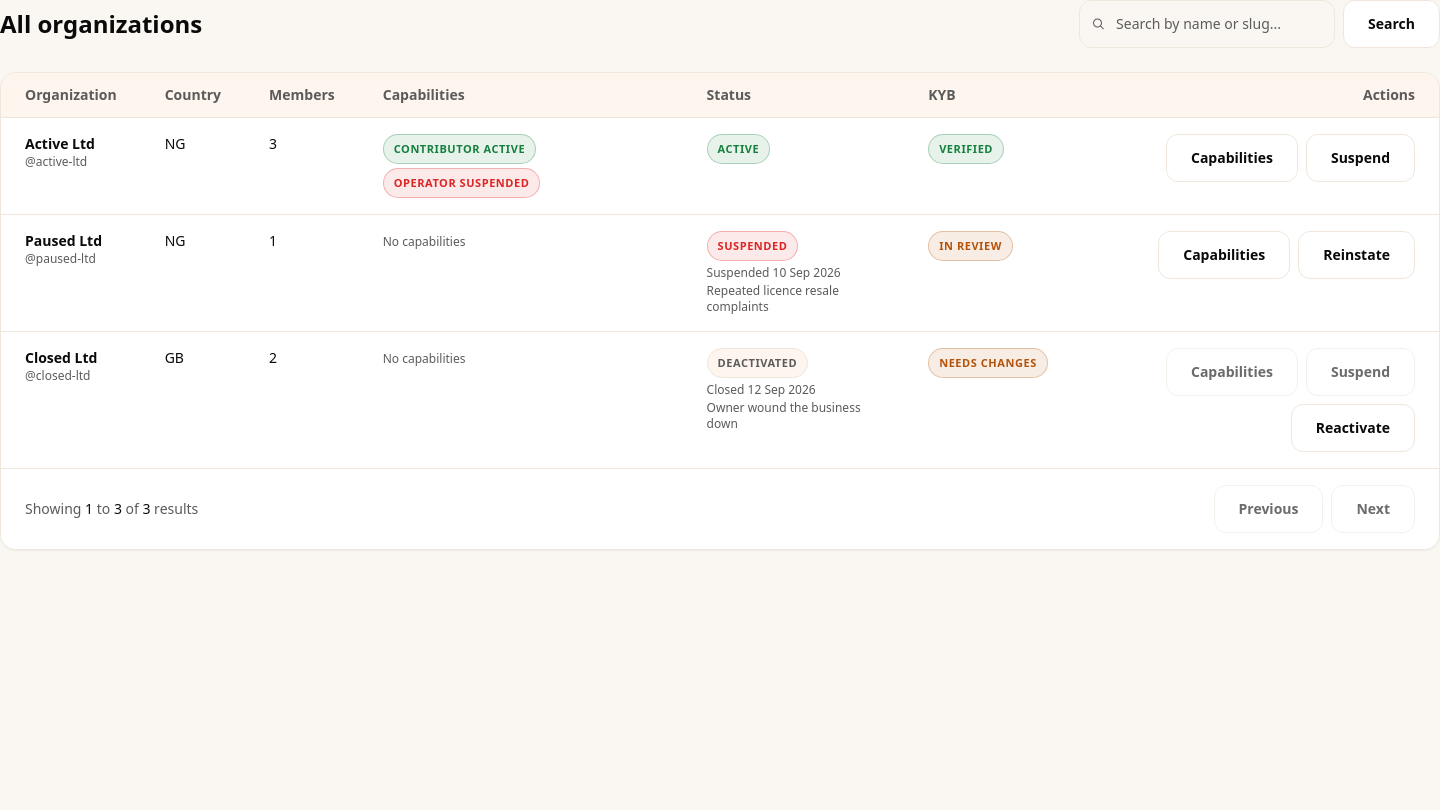
Test case: AdminOrganizationsList › opens the capabilities dialog for a row and updates the row after a change
The image size is (1440, 810).
Click the button "Capabilities" in the row of "Active Ltd".
click(1232, 158)  # box x1=1166 y1=134 x2=1298 y2=182
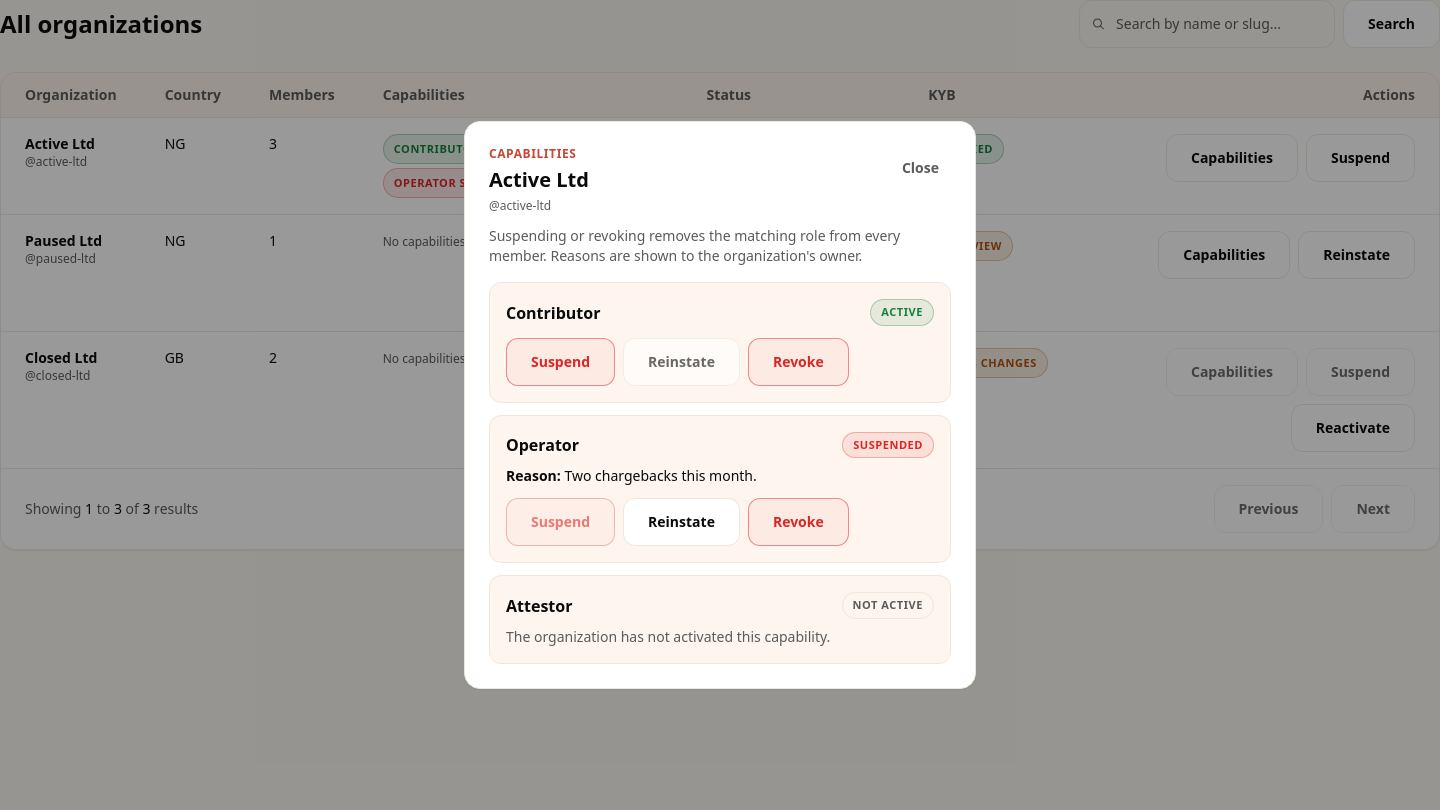
Result: the text "Two chargebacks this month." is shown at x1=564 y1=466 x2=757 y2=485
Click the 1st button "Suspend".
click(561, 362)  # box x1=506 y1=338 x2=615 y2=386
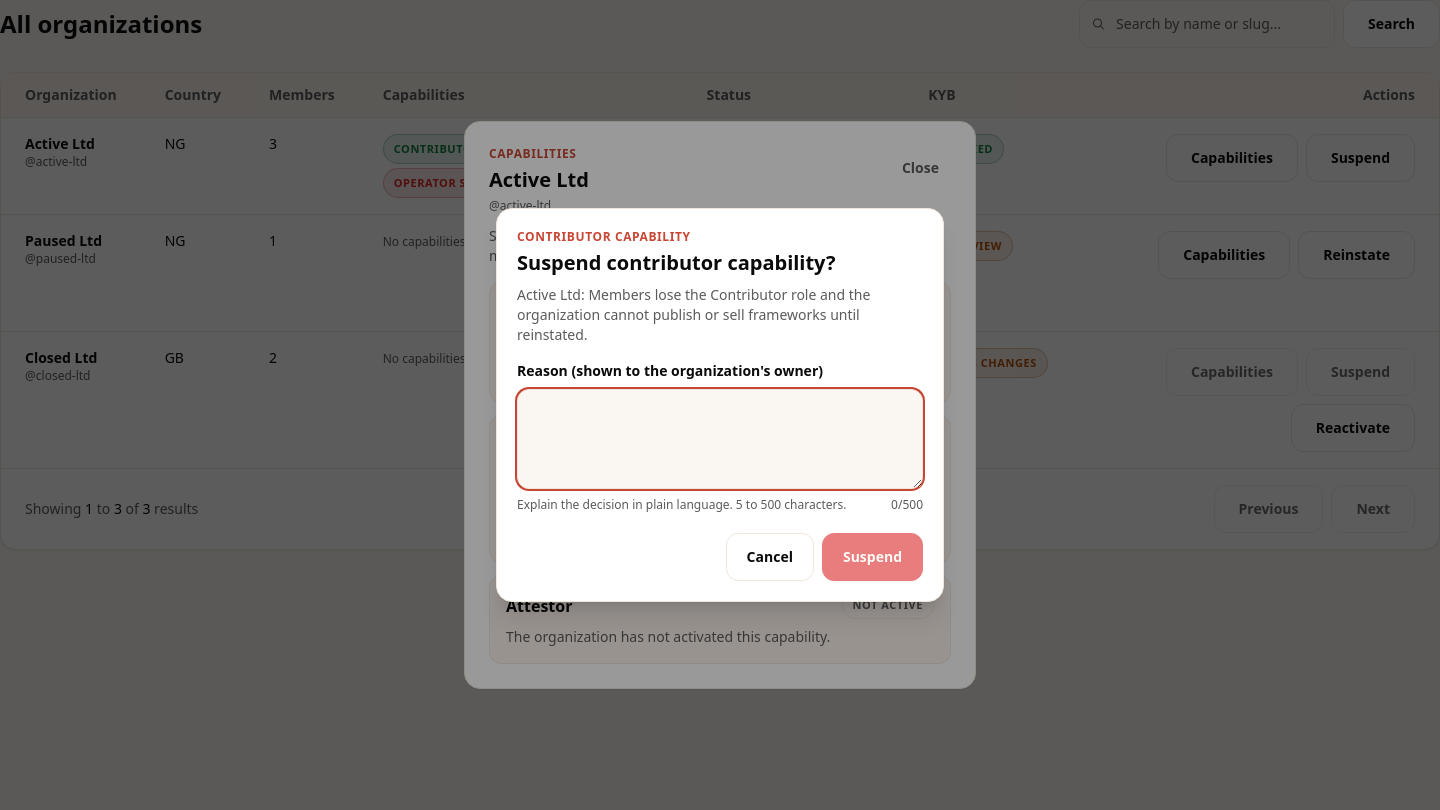
Type "Framework artifacts failed the malware scan twice." into the text box labelled "Reason (shown to the organization's owner)".
click(720, 439); type("Framework artifacts failed the malware scan twice.")  # box x1=517 y1=389 x2=923 y2=489
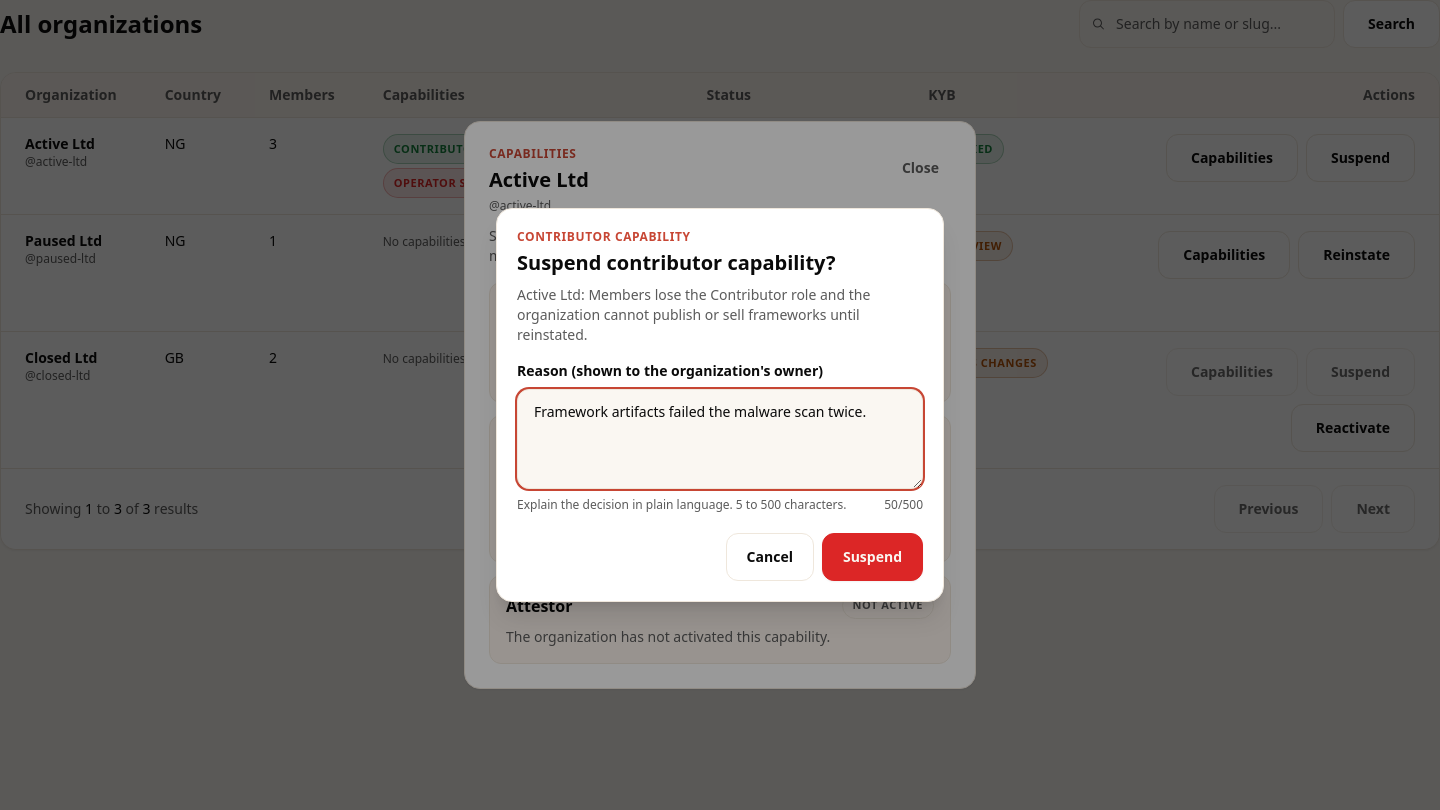
Click the button "Suspend".
click(872, 557)  # box x1=822 y1=533 x2=923 y2=581
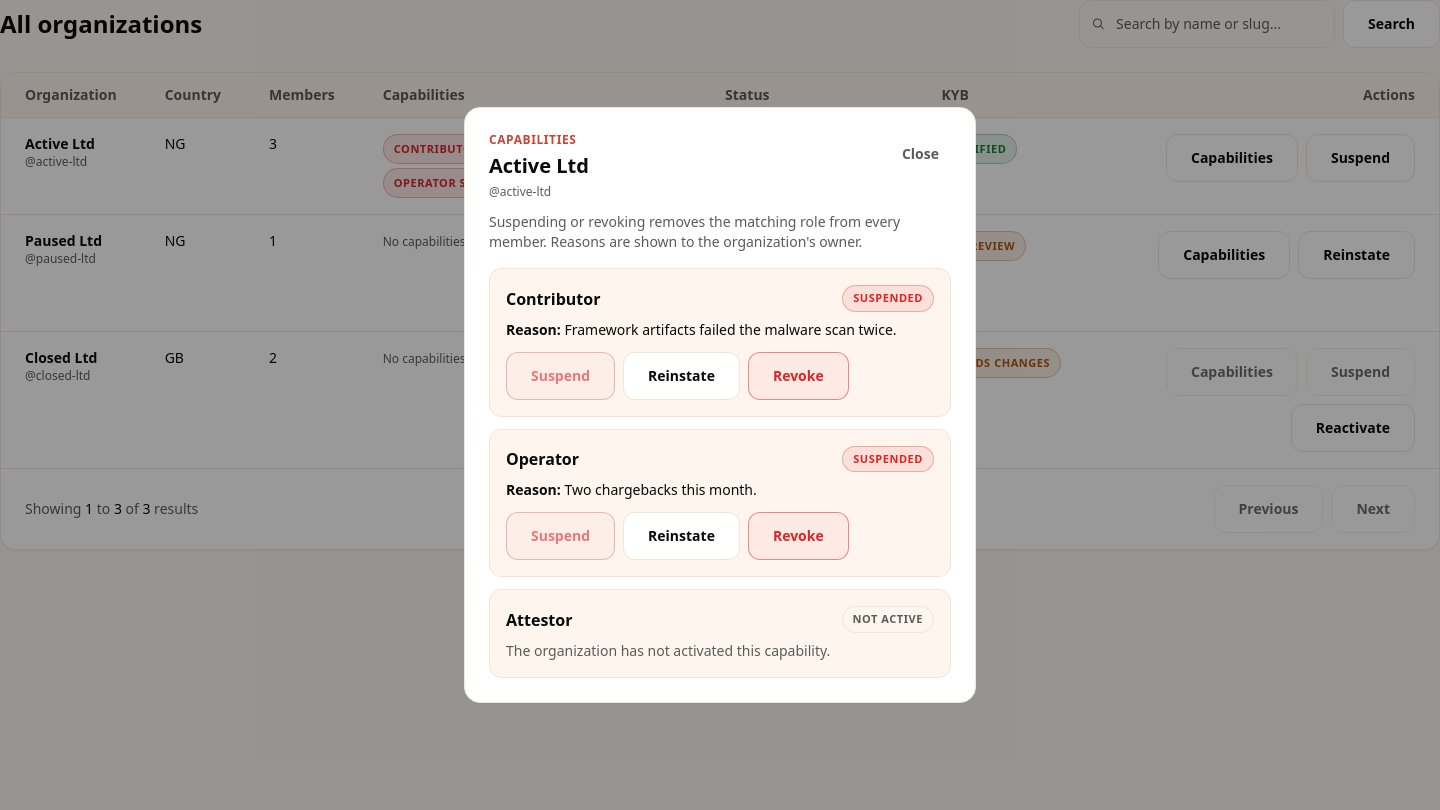
Result: the text "Framework artifacts failed the malware scan twice." is shown at x1=564 y1=320 x2=896 y2=339
Result: the text "Contributor suspended" is shown at x1=383 y1=134 x2=564 y2=164
